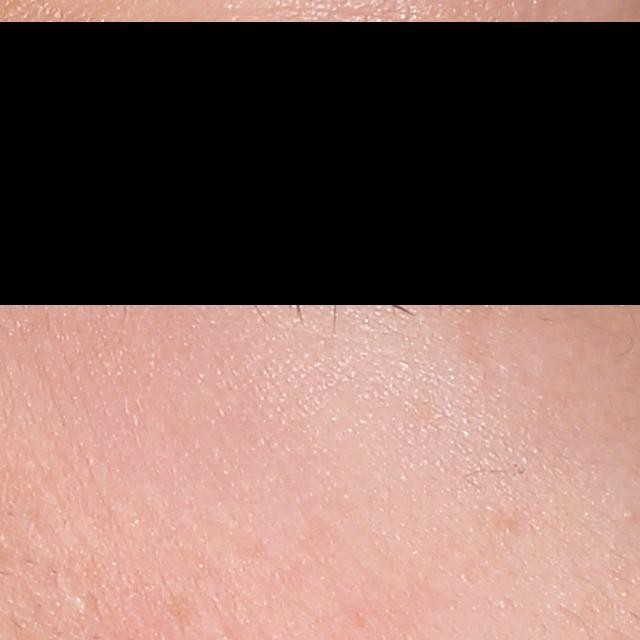comedo: (71, 592, 90, 609)
